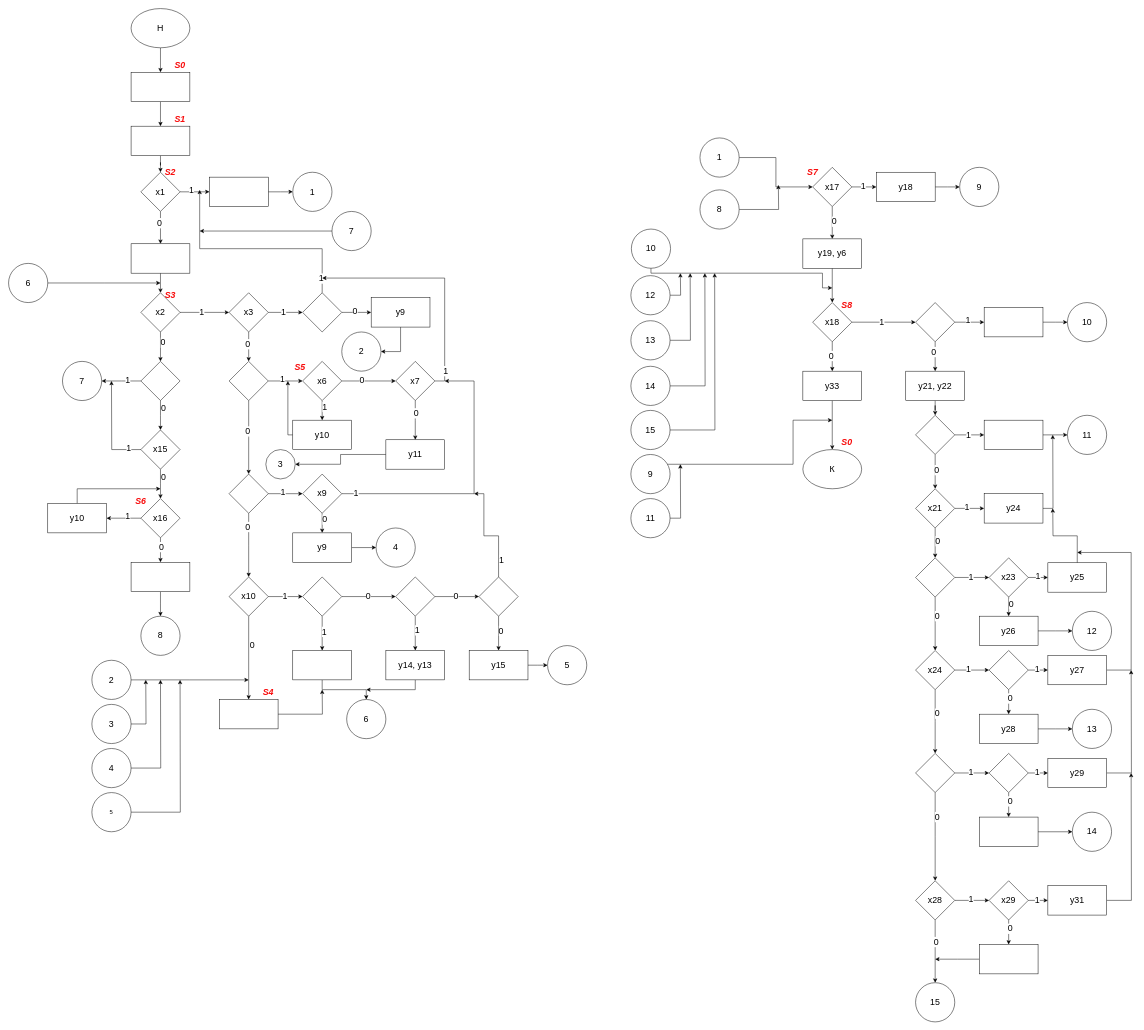
This 1144x1030 diagram has some shape labels left out. The shapes that lost their labels are listed below. From the top down, each one's centre as x and y in pixels, then its label:
the point at 160,87: y1, y2
the point at 160,141: y3, y4
the point at 238,192: y5
the point at 160,258: y6, y7, y8
the point at 322,312: x4
the point at 935,322: x19
the point at 1013,322: y20
the point at 160,381: x14
the point at 248,381: x5
the point at 935,434: x20
the point at 1013,435: y23
the point at 248,493: x8
the point at 160,577: y16, y17
the point at 322,596: x11
the point at 415,596: x12
the point at 498,596: x13
the point at 935,577: x22
the point at 322,665: y12, y13
the point at 1008,670: x25
the point at 248,714: y13
the point at 935,773: x26
the point at 1008,773: x27
the point at 1008,831: y30
the point at 1008,959: y32
